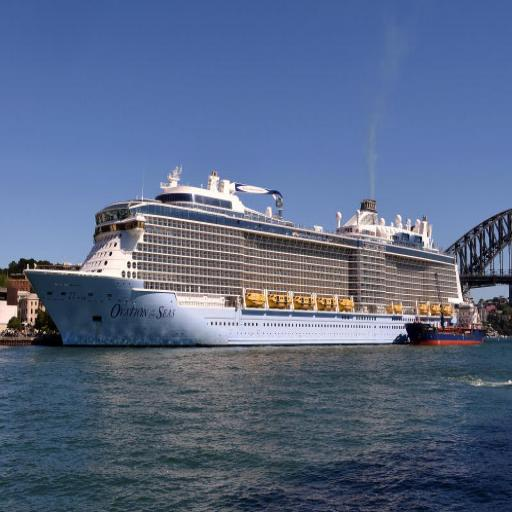cruises: (22, 154, 483, 354)
